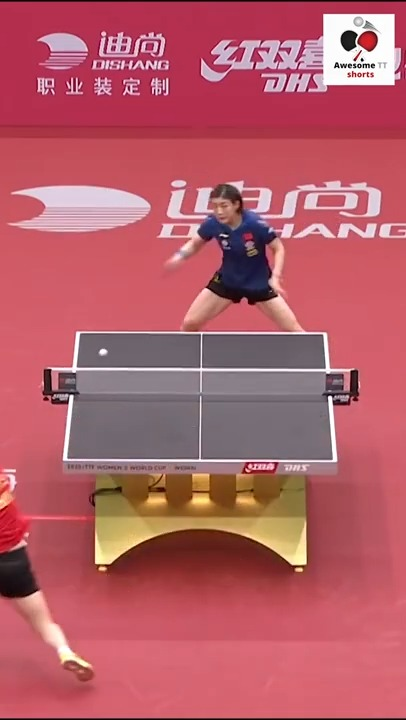Ball: (97, 346, 109, 360)
